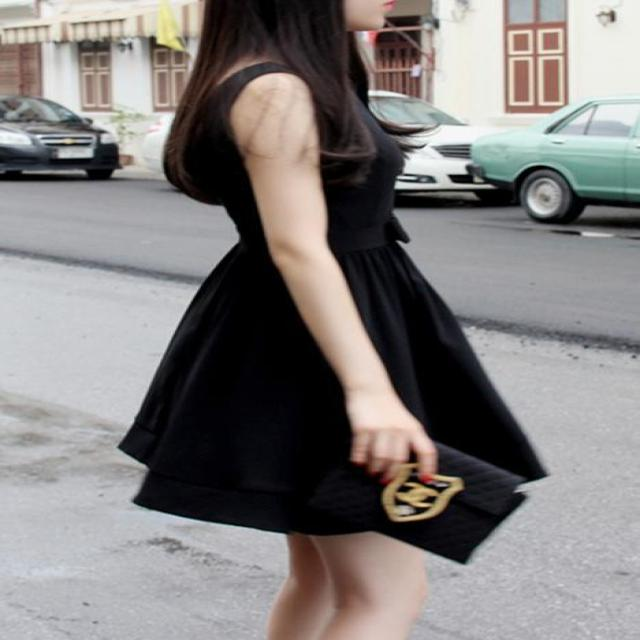short-sleeve-dress: (143, 51, 609, 572)
